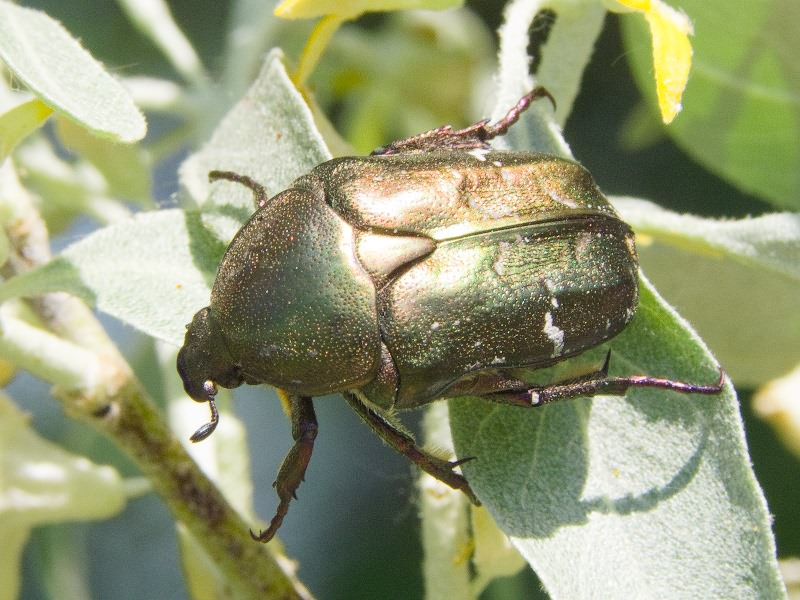Protaetia_metallica: (157, 86, 734, 559)
